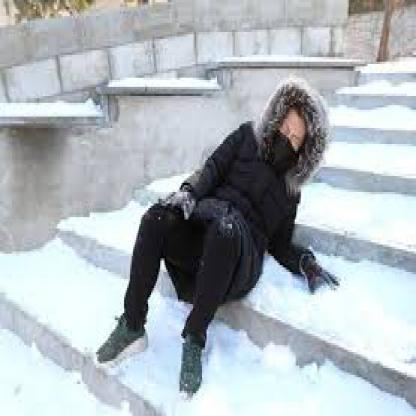Fall_Down: (96, 82, 345, 403)
